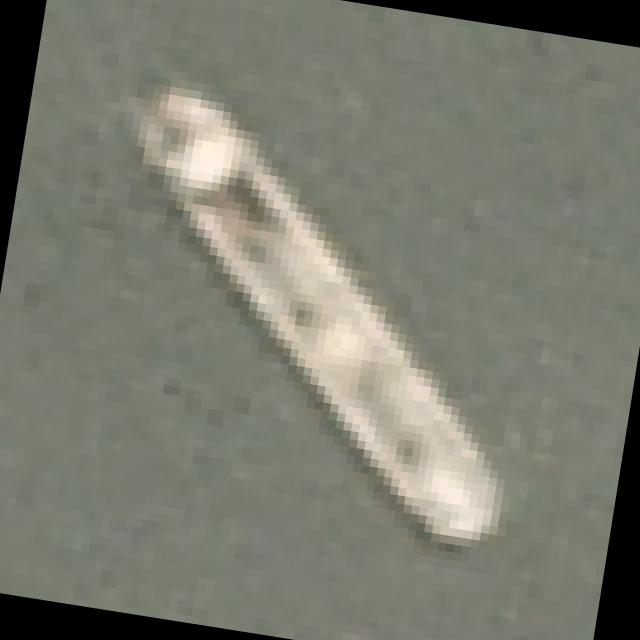ship: (46, 53, 576, 576)
